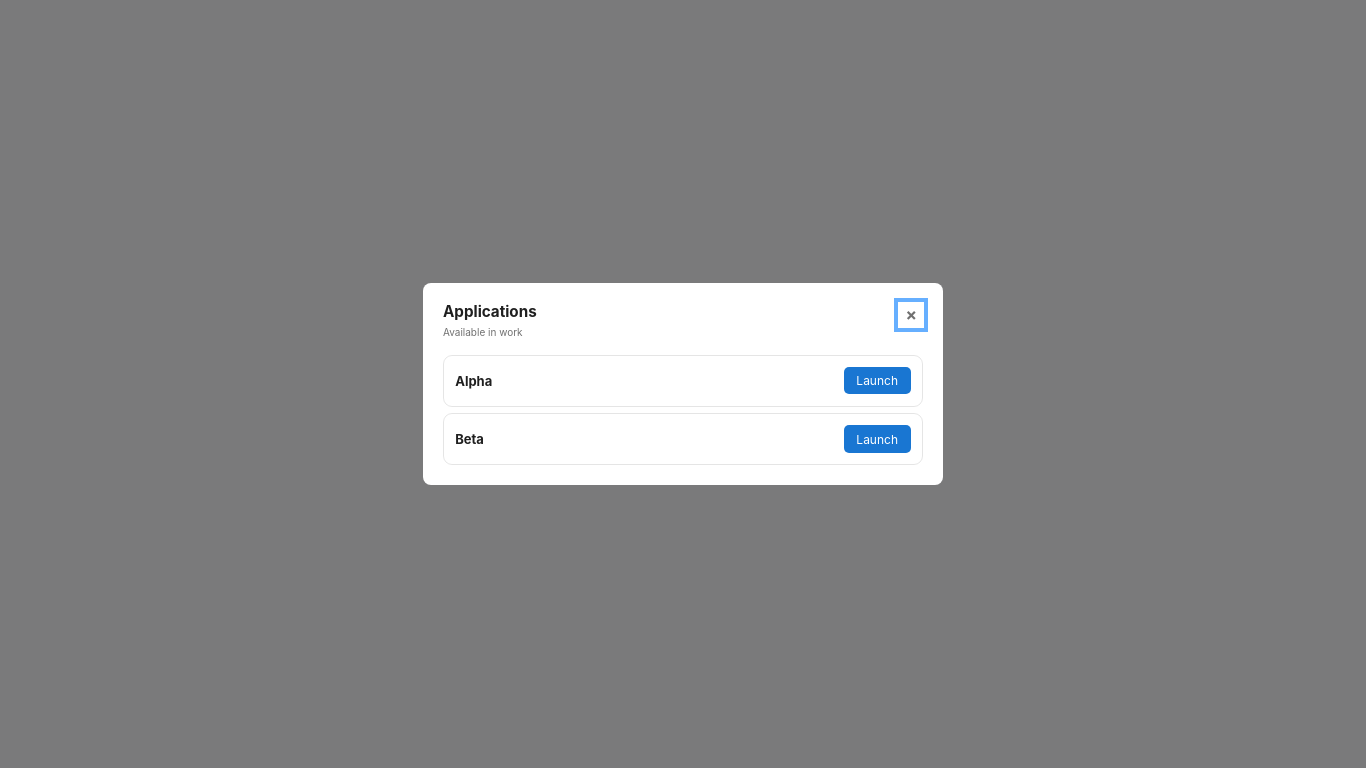
AppMenuDialog › allows one launch at a time
What coordinates should you click on to do the following:
click the button named "Launch Alpha"
I would click on:
 (877, 381)
Its box is [844,367,911,394].
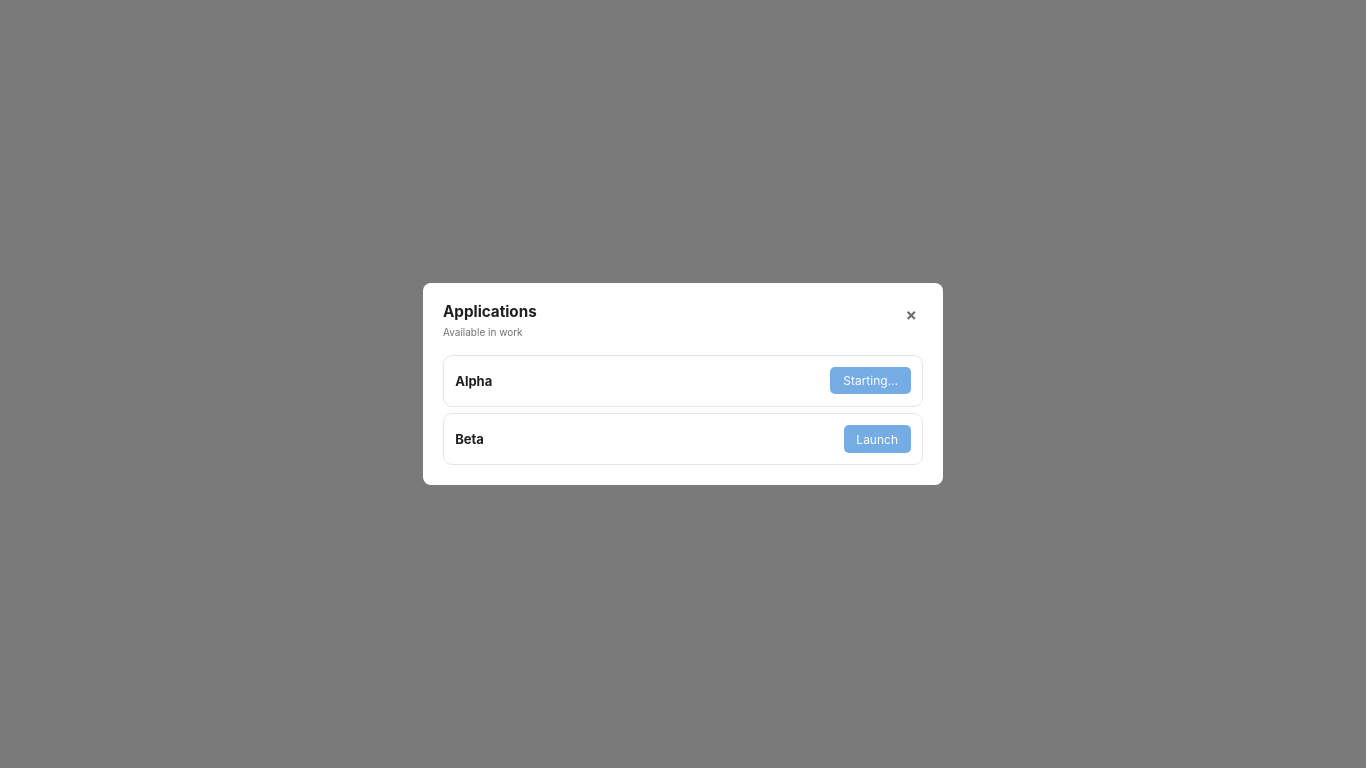
Check: the button named "Starting Alpha" is disabled, box [830,367,911,394]
Check: the button named "Launch Beta" is disabled, box [844,425,911,453]
